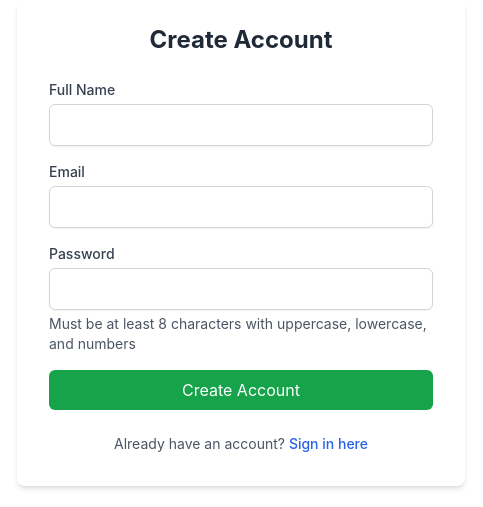
Test: SignupForm › disables form fields and shows loading state during submission
Type "John Doe" into the field labelled "Full Name".
click(241, 125); type("John Doe")  # box [49, 104, 433, 146]
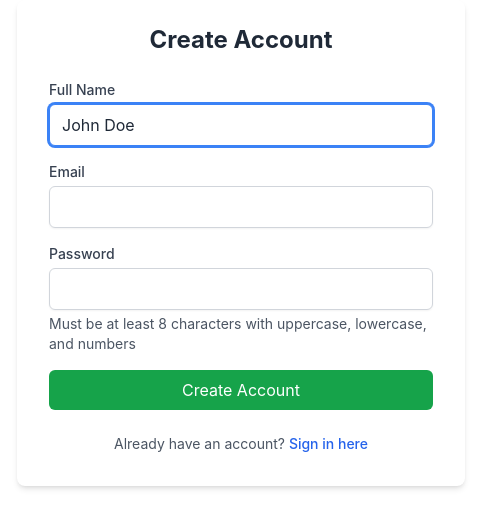
Type "john@example.com" into the field labelled "Email".
click(241, 207); type("john@example.com")  # box [49, 186, 433, 228]
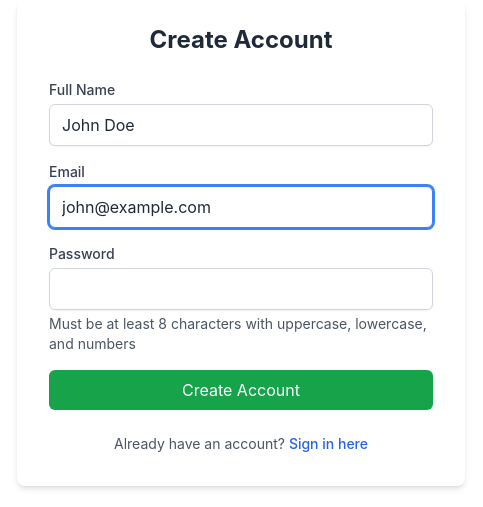
Type "SecurePass123" into the password field labelled "Password".
click(241, 289); type("SecurePass123")  # box [49, 268, 433, 310]
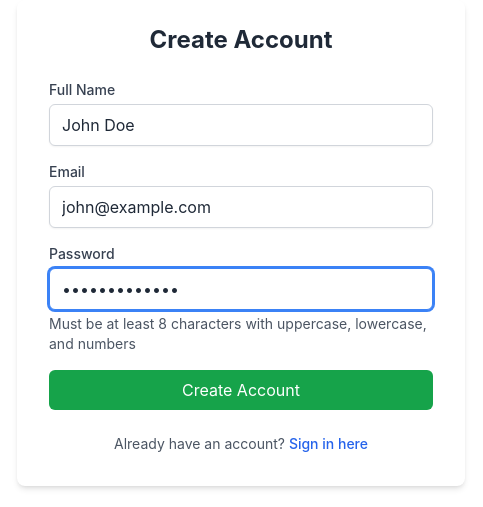
Click the button "Create Account".
click(241, 390)  # box [49, 370, 433, 410]
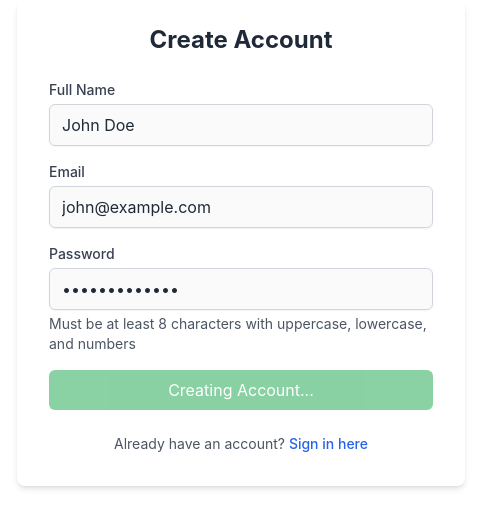
Check: the field labelled "Full Name" is disabled, box [49, 104, 433, 146]
Check: the button named "Create Account" is disabled, box [49, 370, 433, 410]
